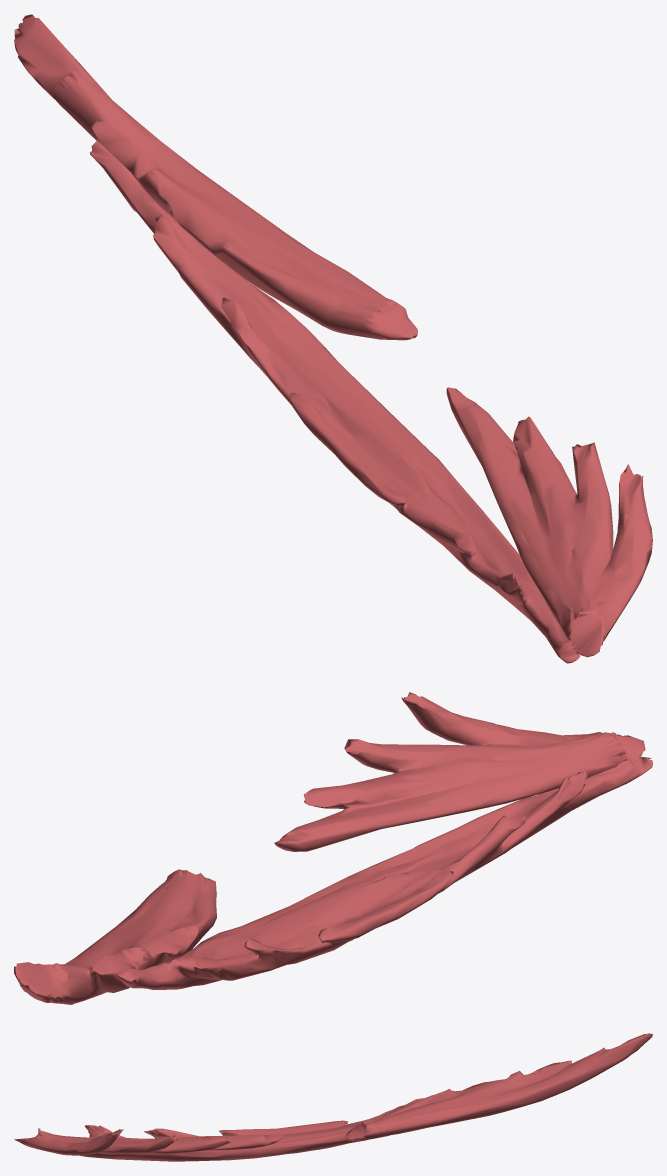
3 renders of one model, top to bottom at view 1: azimuth 30°, elevation 25°; view 2: azimuth 150°, elevation 25°; view 3: azimuth 270°, elevation 25°, orthographic. The views are drawn at different scales.
Parts seen in each view (by area): view 1: 左侧颈长肌; view 2: 左侧颈长肌; view 3: 左侧颈长肌.
Boxes of the visible parts, x1=… form: 左侧颈长肌: x1=14, y1=14, x2=652, y2=663; 左侧颈长肌: x1=14, y1=692, x2=652, y2=1004; 左侧颈长肌: x1=14, y1=1033, x2=652, y2=1161.
Bounding box in the file's own units: 0.0365 × 0.0503 × 0.2319.
